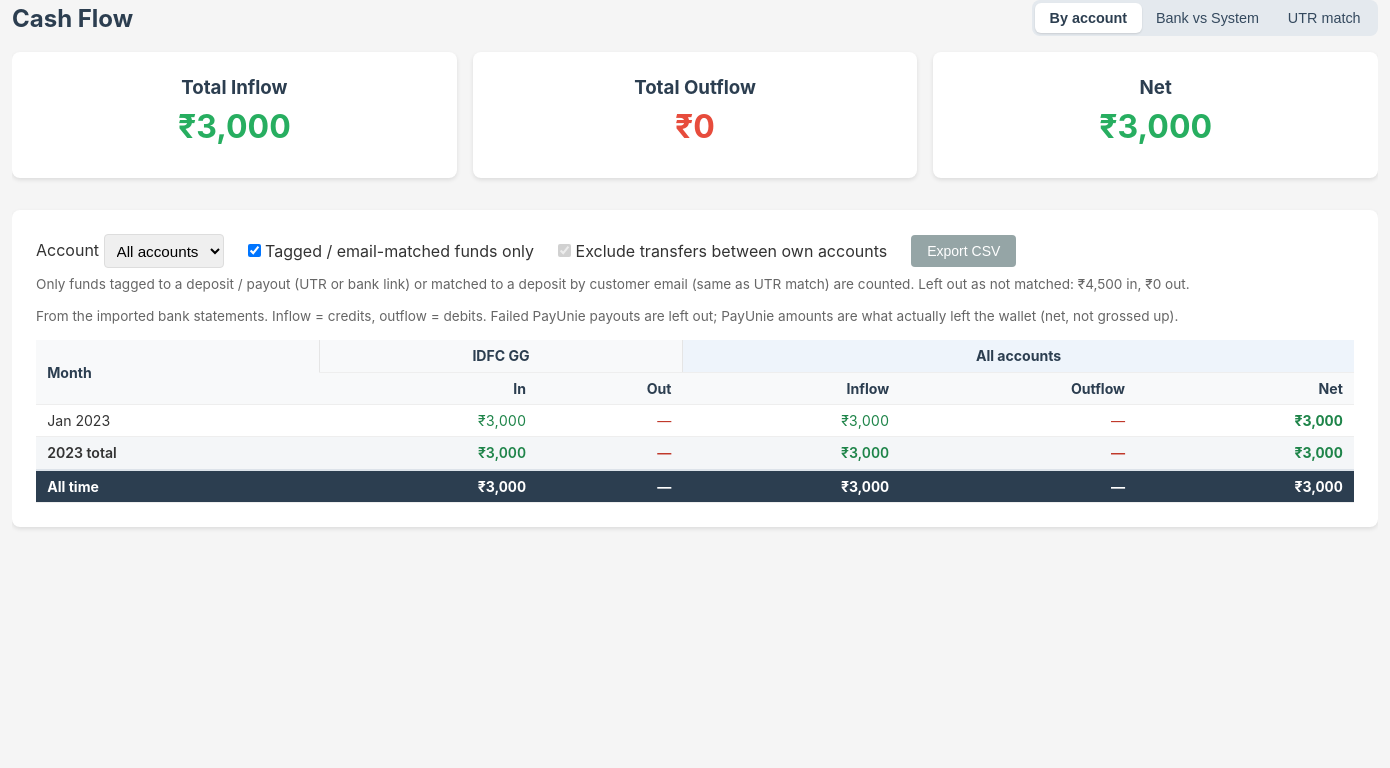
Test: X rejects an email match, moves the credit to Still unmatched, and Restore undoes it
This screenshot has width=1390, height=768.
Expected: the text "All time" is shown, top-left (36, 470), bottom-right (320, 503)
Step 1. Click the tab "UTR match" → (1324, 18), box top-left (1274, 3), bottom-right (1375, 33)
(page scrolled)
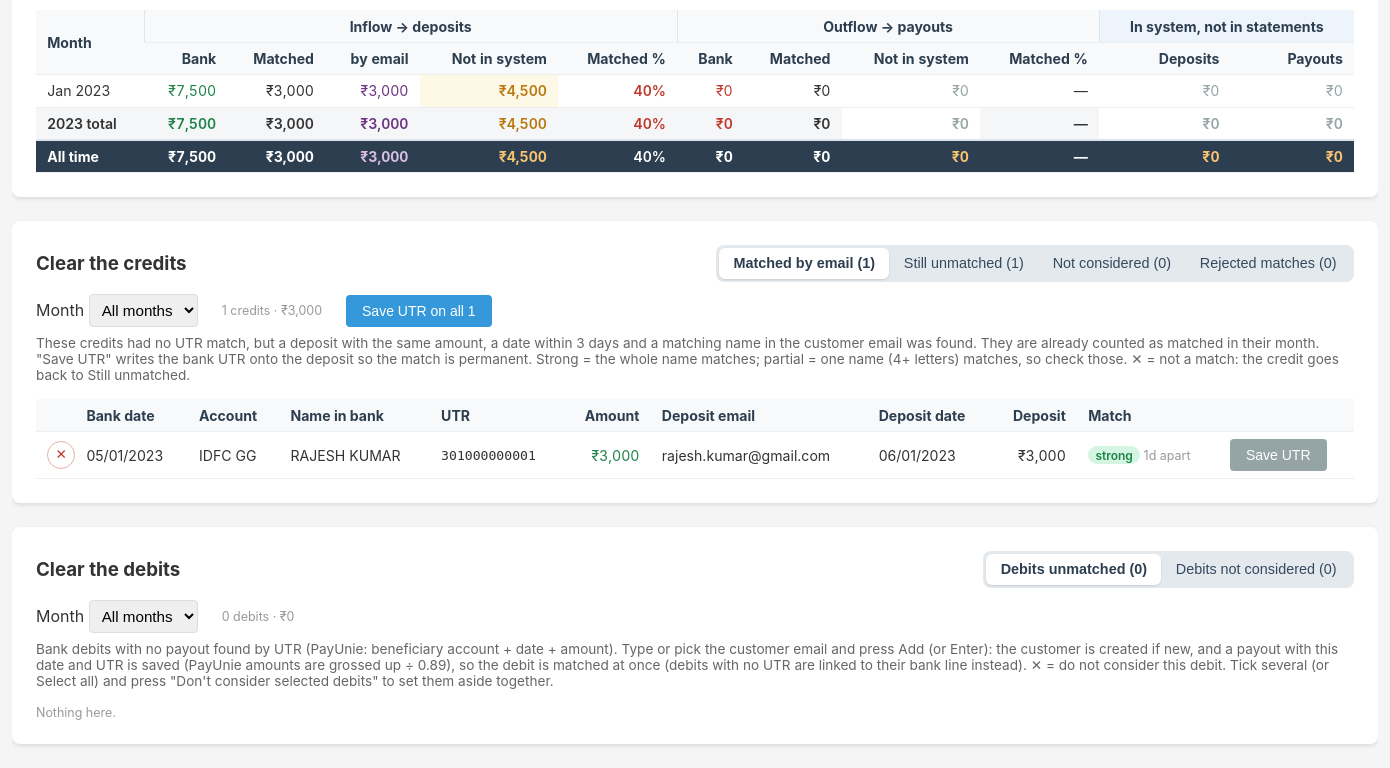
Expected: the button "Matched by email (1)" is shown, top-left (719, 248), bottom-right (889, 279)
Expected: the button "Still unmatched (1)" is shown, top-left (890, 248), bottom-right (1038, 279)
Step 2. Click the button named "Not a match: ₹3,000 and rajesh.kumar@gmail.com" → (61, 455), box top-left (47, 441), bottom-right (75, 469)
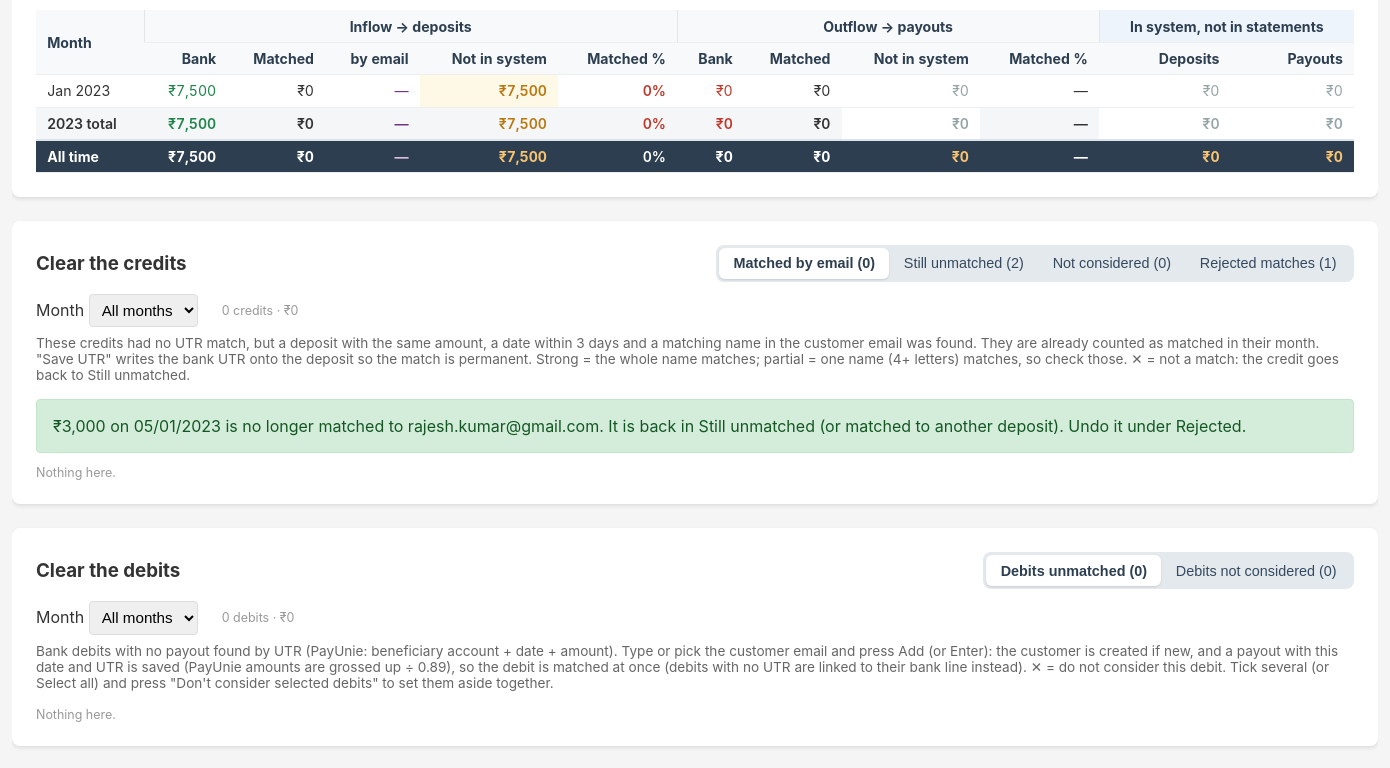
Expected: the button "Matched by email (0)" is shown, top-left (719, 248), bottom-right (889, 279)
Expected: the button "Still unmatched (2)" is shown, top-left (890, 248), bottom-right (1038, 279)
Expected: the button "Rejected matches (1)" is shown
Step 3. Click the button "Rejected matches (1)" → (1268, 264), box top-left (1185, 248), bottom-right (1351, 279)
(page scrolled)
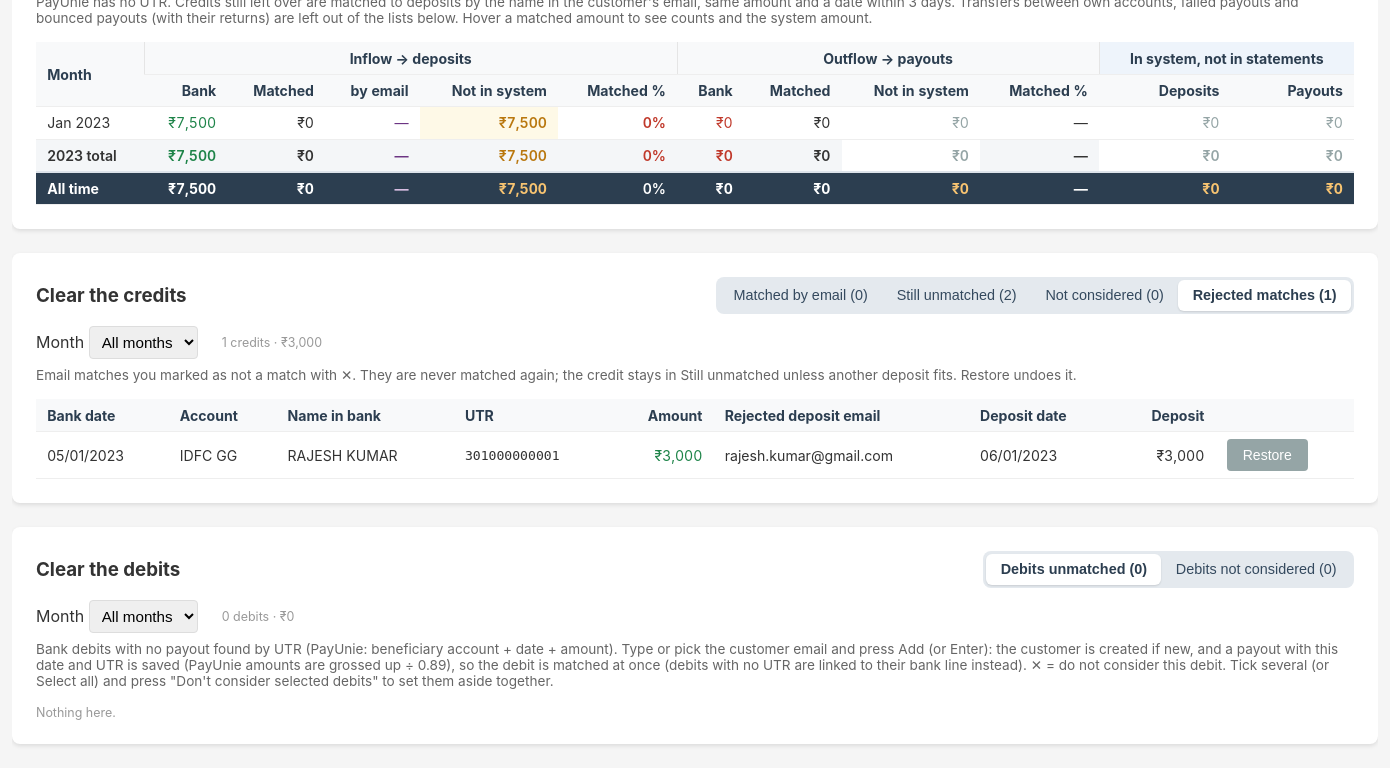
Step 4. Click the button "Restore" → (1267, 455), box top-left (1227, 439), bottom-right (1308, 471)
(page scrolled)
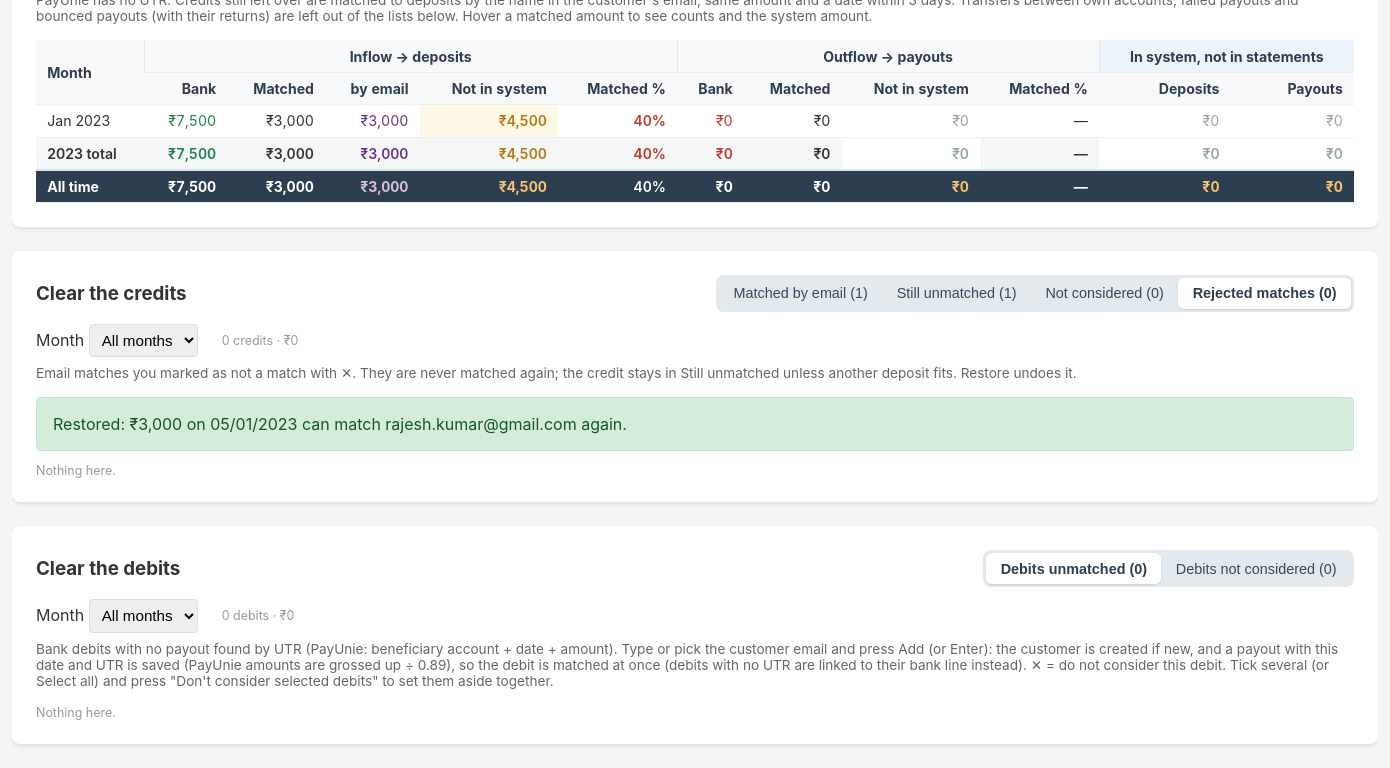
Expected: the button "Matched by email (1)" is shown, top-left (719, 278), bottom-right (882, 309)
Expected: the button "Rejected matches (0)" is shown, top-left (1178, 278), bottom-right (1351, 309)
